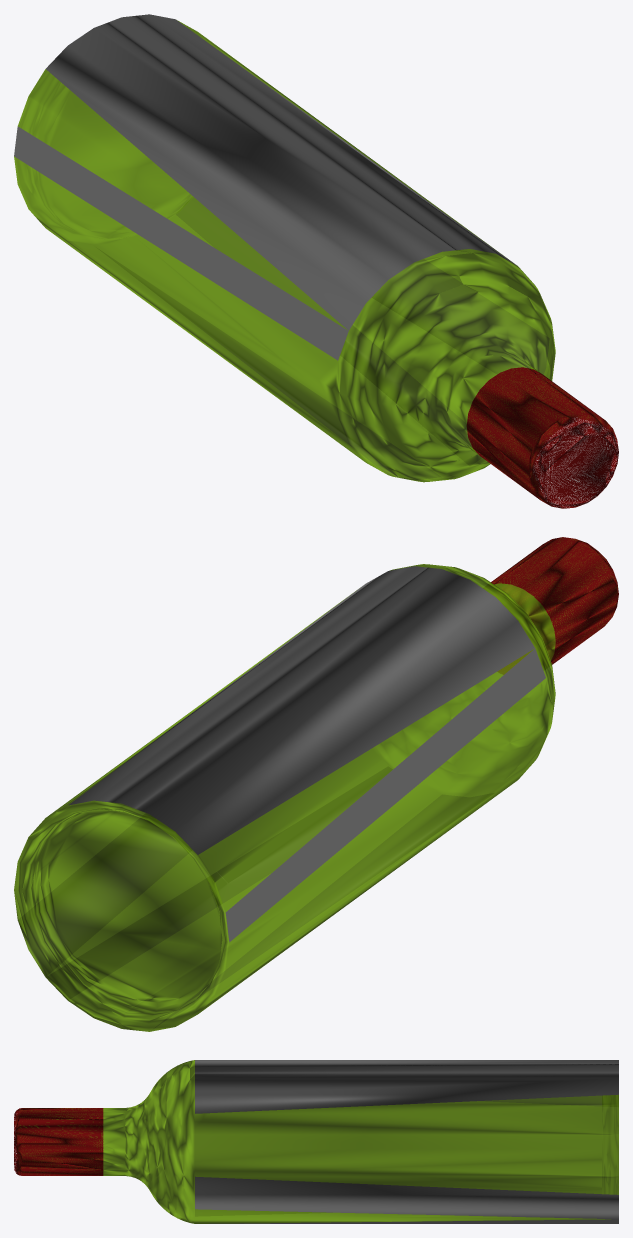
The model's file is model_align.obj.
The picture shows the model from 3 angles, top to bottom: view 1: azimuth 30°, elevation 25°; view 2: azimuth 150°, elevation 25°; view 3: azimuth 270°, elevation 25°; orthographic projection. The views are drawn at different scales.
Bounding box in the file's own units: 0.0708 × 0.0708 × 0.2602.
